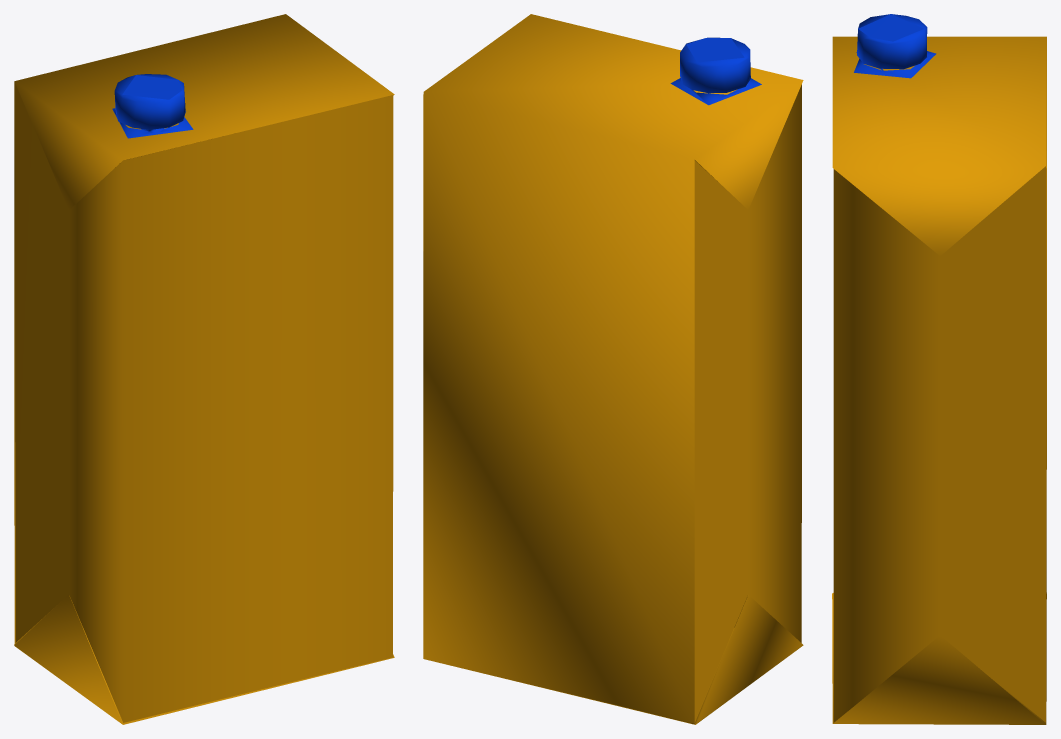
The model's file is juice.dae.
3 views of the same model, side by side, from view 1: azimuth 30°, elevation 25°; view 2: azimuth 150°, elevation 25°; view 3: azimuth 270°, elevation 25° (orthographic).
Parts seen in each view (by area): view 1: SM_Juice; view 2: SM_Juice; view 3: SM_Juice.
Boxes of the visible parts, bbox=[...] form: SM_Juice: bbox=[14, 14, 394, 724]; SM_Juice: bbox=[423, 14, 803, 724]; SM_Juice: bbox=[832, 14, 1046, 724].
Size of the model in its own units: 1.69 by 1.16 by 3.55.
